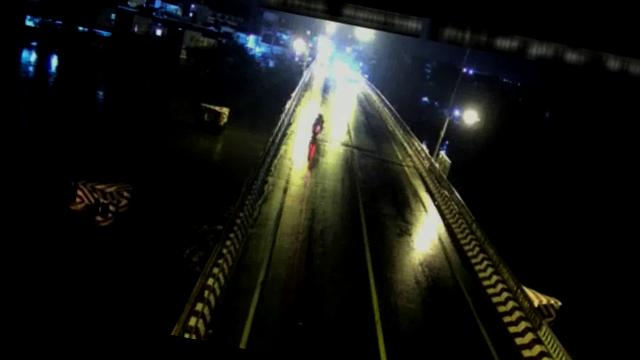Bike: (308, 109, 327, 140)
